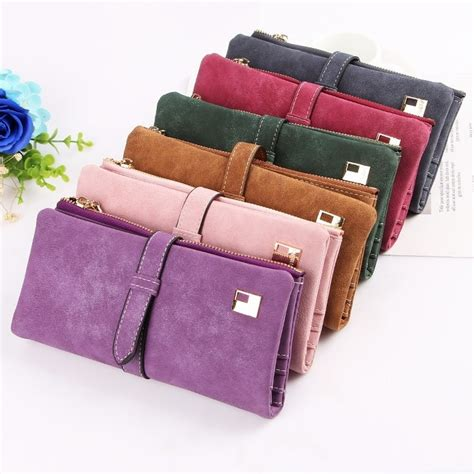gamuza: (10, 33, 465, 420)
